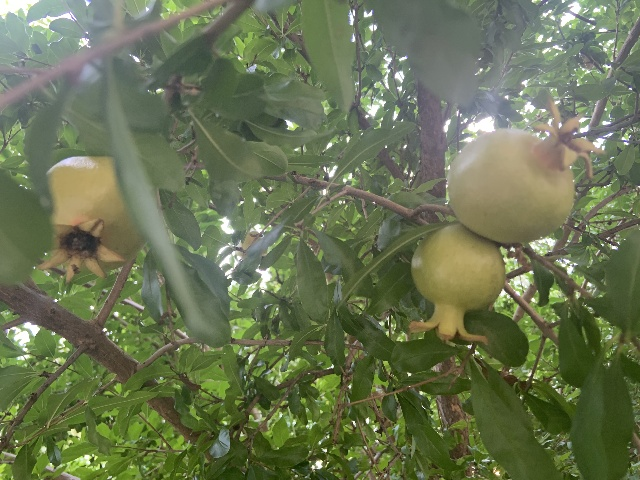mid-growth: (447, 95, 603, 241), (36, 155, 146, 283), (408, 223, 505, 344)
